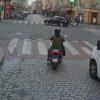Motorcycle: (42, 31, 68, 74)
